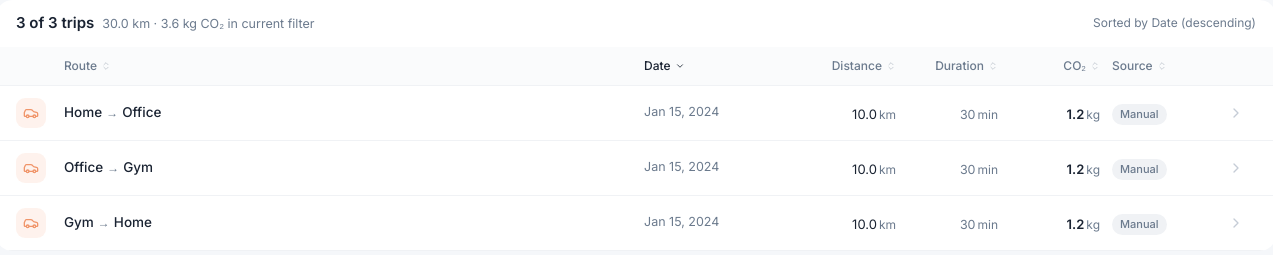
Test case: TripsTable › clicking sort header on active key toggles asc→desc
Expected: the text "Sorted by Date (descending)" is shown, 1093,14 -> 1256,32
Click Date to toggle to ascending
Click the button "Date" at (719, 66), box 644,56 -> 794,74
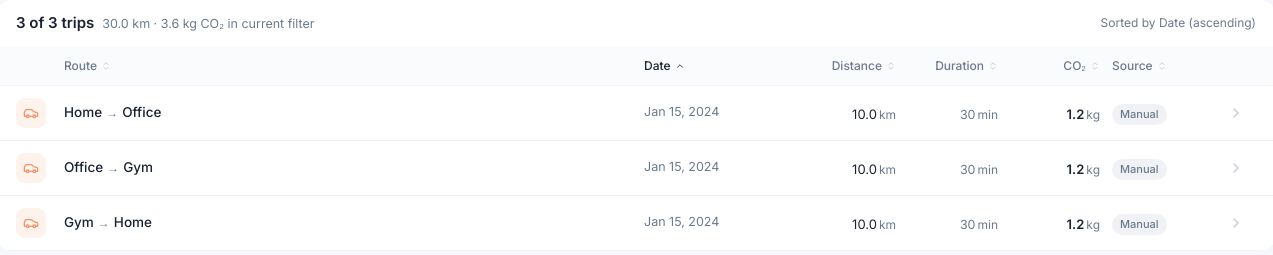
Now the text "Sorted by Date (ascending)" is shown, box 1101,14 -> 1256,32
